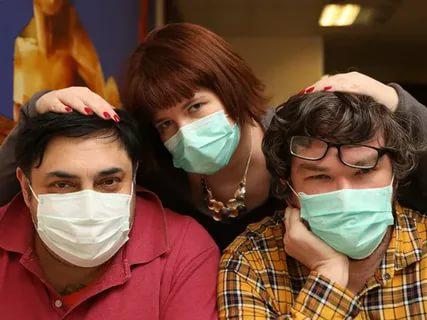mask: (290, 127, 393, 255), (34, 140, 137, 265), (155, 89, 238, 173)
